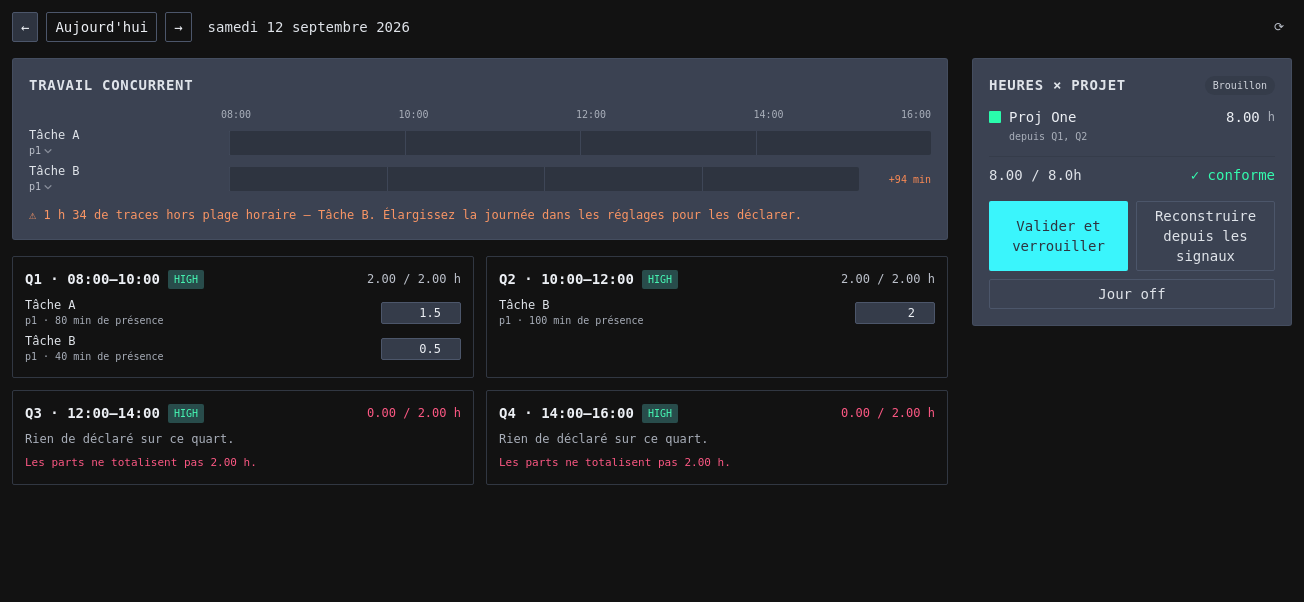
Test: TimesheetPage › reconstructs once and shows the returned message when "Confirmer" is clicked
This screenshot has width=1304, height=602.
Click the button "Reconstruire depuis les signaux" at [1206, 236], box [1136,201,1275,271]
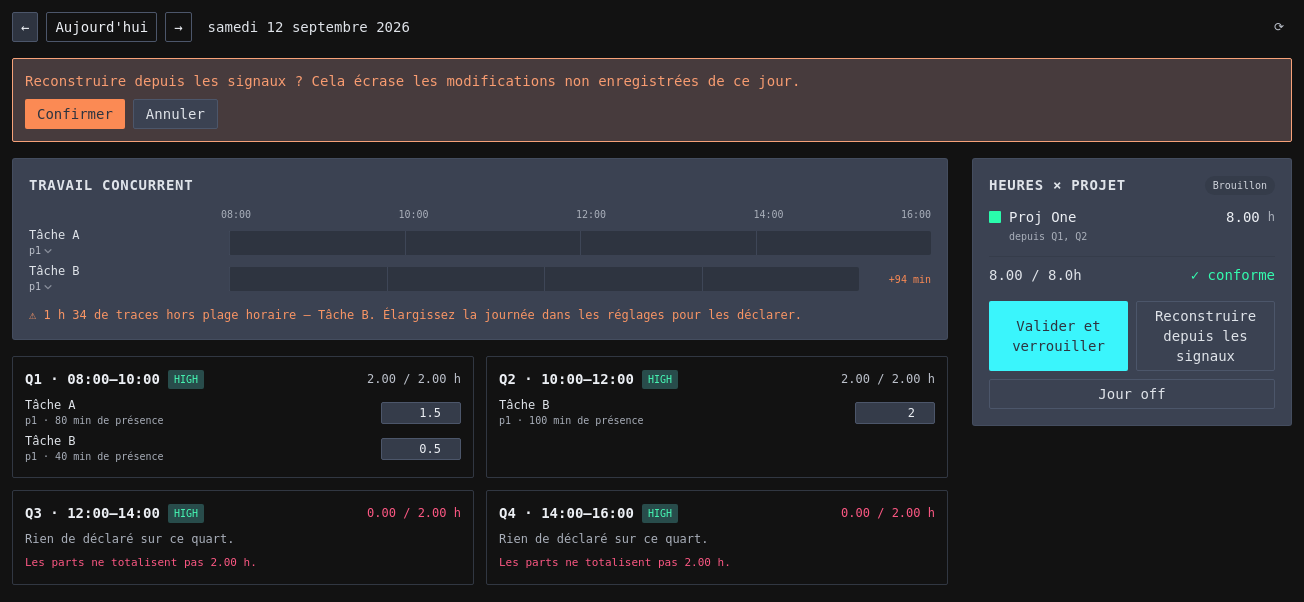
Click the button "Confirmer" at [75, 114], box [25,99,125,129]
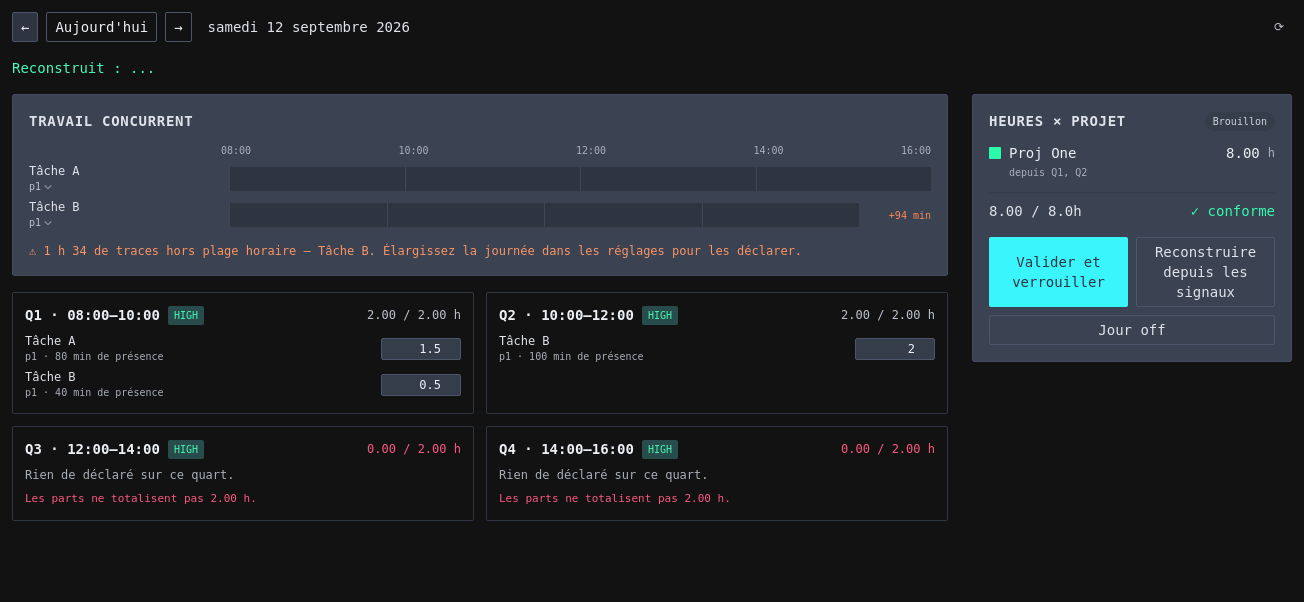
Check: the text "Reconstruit : ..." is shown, box [12,60,155,76]
